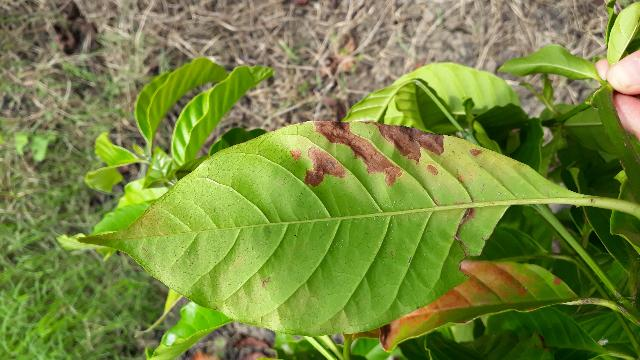red_spider_mite: (57, 21, 586, 246)
